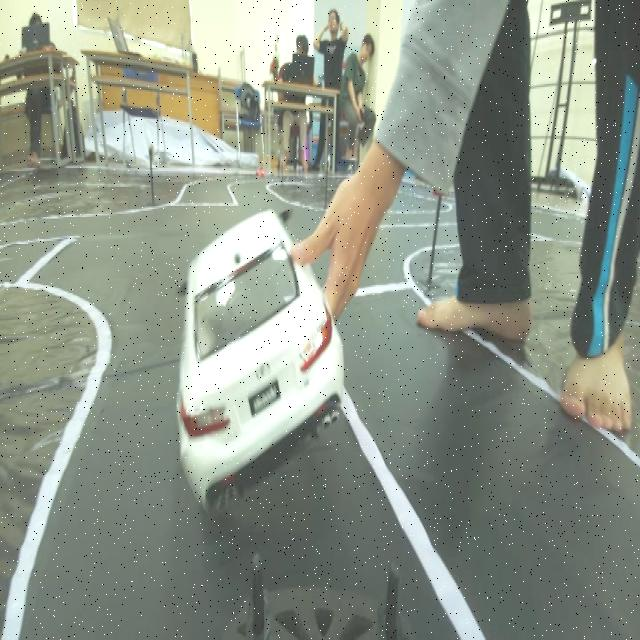car: (156, 219, 356, 491)
